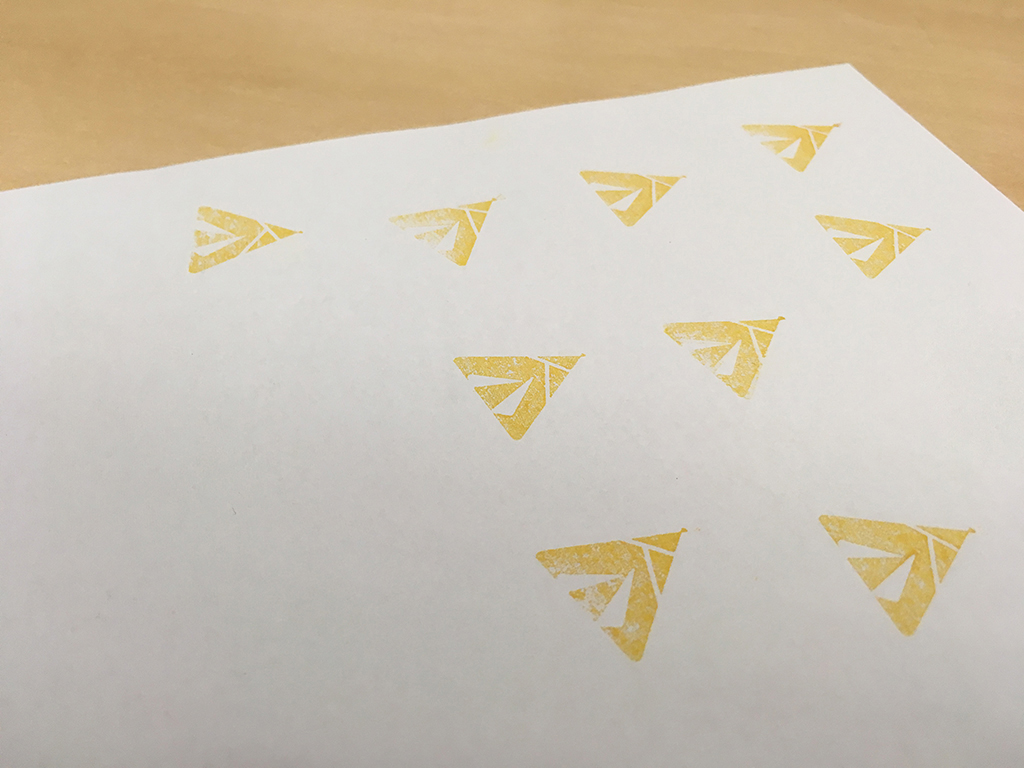tent: (809, 502, 989, 652), (523, 526, 695, 671), (444, 348, 596, 450), (654, 312, 789, 402), (178, 198, 311, 278), (806, 211, 938, 286), (383, 196, 503, 273), (576, 166, 693, 232), (733, 115, 850, 179)
